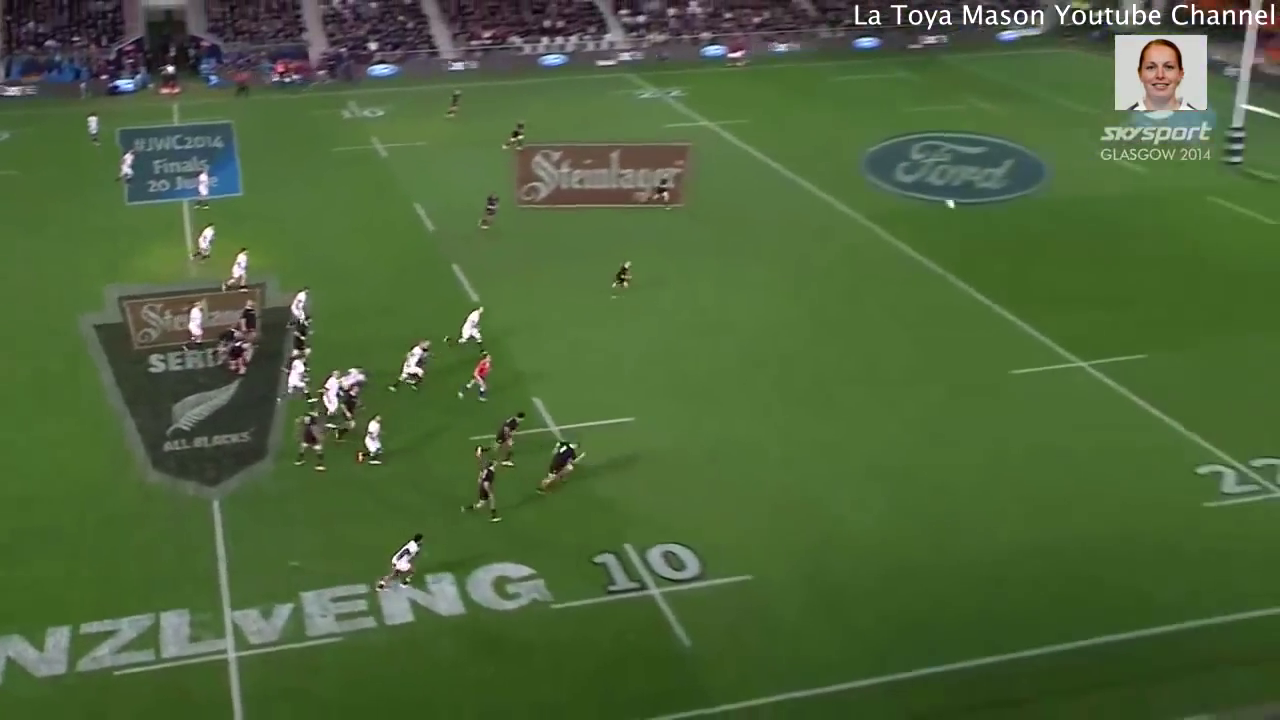10_metre: (543, 534, 764, 655), (462, 389, 645, 466), (323, 130, 435, 168), (306, 95, 405, 124)
player: (362, 528, 426, 596), (528, 433, 590, 499), (469, 402, 529, 469), (454, 455, 503, 529), (284, 402, 332, 474), (386, 334, 436, 396), (278, 311, 321, 377), (273, 350, 321, 407), (441, 300, 489, 351), (218, 240, 256, 301), (457, 350, 496, 408), (328, 381, 365, 442), (354, 412, 388, 468), (179, 295, 209, 358), (185, 218, 218, 272), (472, 185, 504, 240), (639, 168, 675, 215), (604, 255, 638, 304), (317, 363, 345, 421), (282, 280, 314, 330), (496, 113, 533, 156), (231, 292, 263, 340), (112, 144, 142, 189), (189, 168, 216, 215), (334, 361, 372, 392), (80, 108, 107, 151), (208, 322, 246, 351), (220, 340, 254, 372), (441, 85, 469, 120)
post: (1209, 32, 1280, 168)
